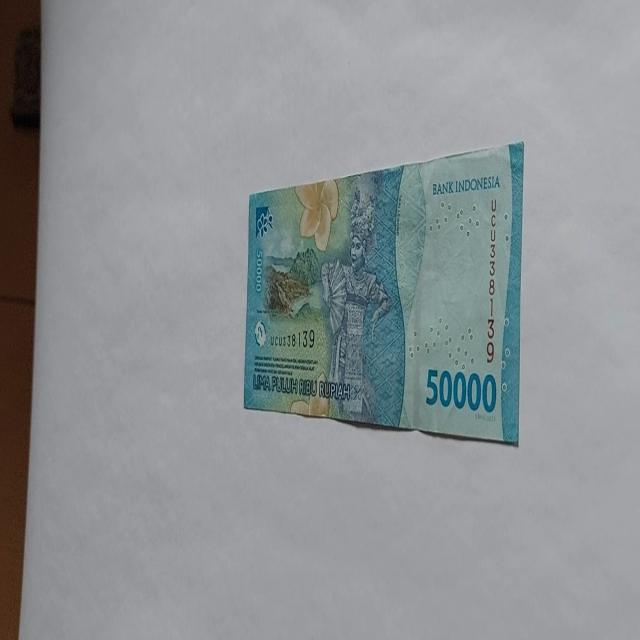lima puluh ribu rupiah: (242, 140, 524, 448)
